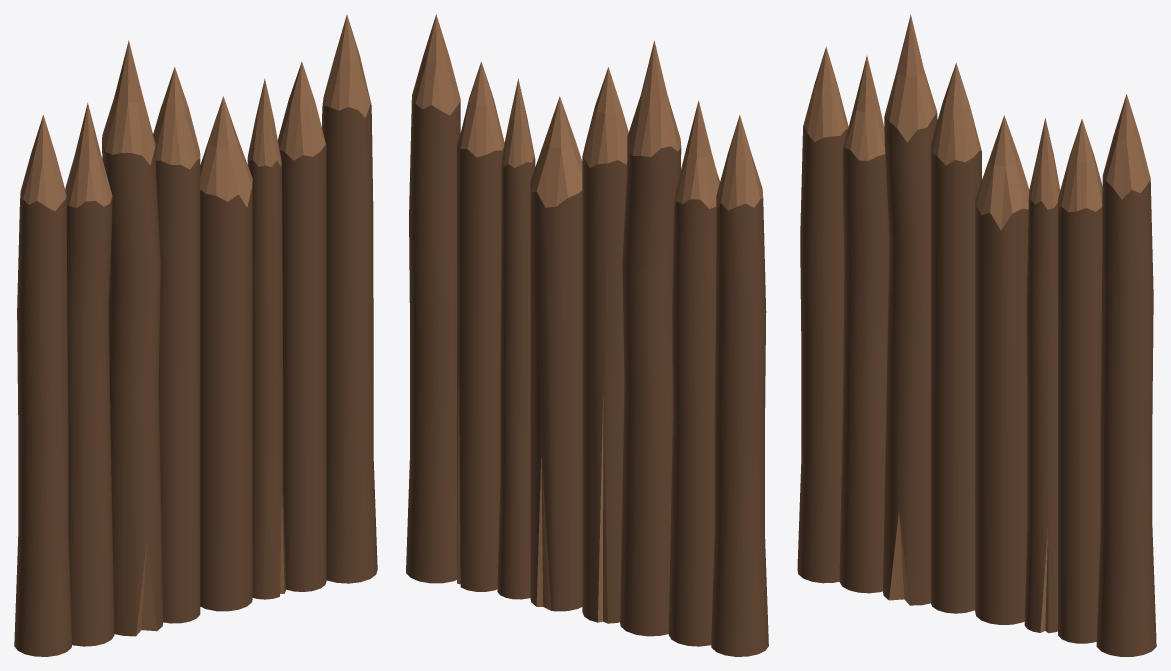
The model's file is Fence_02.fbx.
3 renders of one model, left to right at view 1: azimuth 30°, elevation 25°; view 2: azimuth 150°, elevation 25°; view 3: azimuth 330°, elevation 25°, orthographic.
Visible parts, largest first — view 1: Fence_02_LOD0; view 2: Fence_02_LOD0; view 3: Fence_02_LOD0.
Boxes of the visible parts, bbox=[...] form: Fence_02_LOD0: bbox=[14, 15, 377, 656]; Fence_02_LOD0: bbox=[406, 14, 768, 656]; Fence_02_LOD0: bbox=[797, 14, 1156, 656].
Size of what is drawn, in the model's own units: 1.62 by 2.55 by 0.2467.
